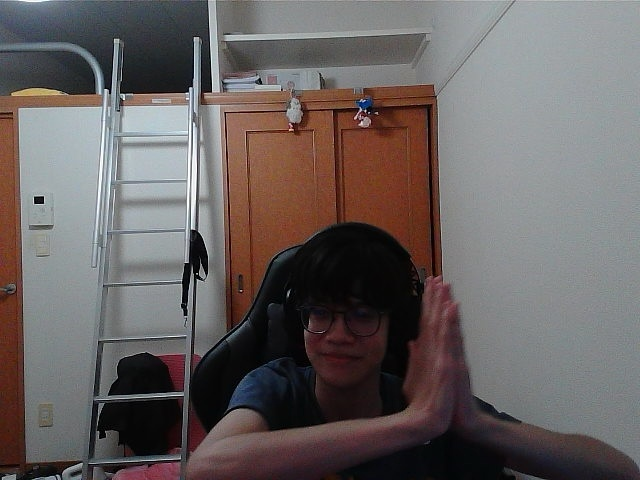pray: (411, 283, 453, 408)
